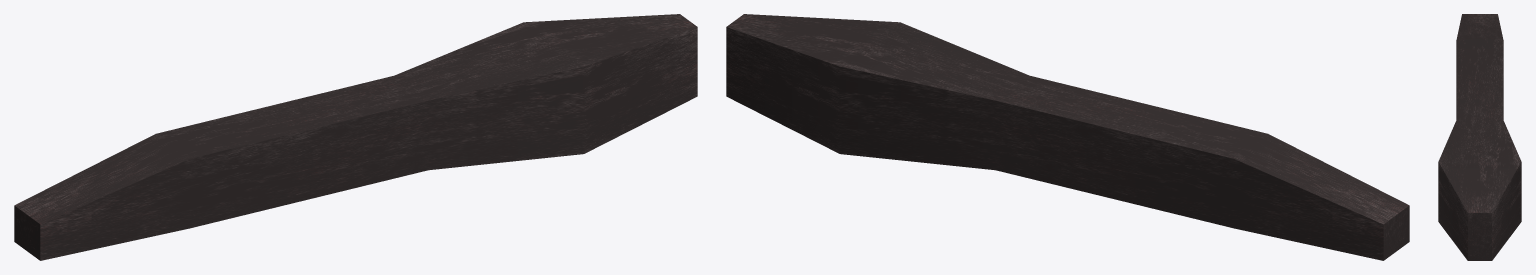
File: ClocksinA.FBX
3 renders of one model, left to right at view 1: azimuth 30°, elevation 25°; view 2: azimuth 150°, elevation 25°; view 3: azimuth 270°, elevation 25°, orthographic. The views are drawn at different scales.
Parts seen in each view (by area): view 1: Box001; view 2: Box001; view 3: Box001.
Boxes of the visible parts, left/top/right/bottom form: Box001: left=14, top=14, right=697, bottom=260; Box001: left=726, top=14, right=1409, bottom=260; Box001: left=1438, top=14, right=1521, bottom=260.
Bounding box in the file's own units: 12.82 × 1.62 × 2.03.
